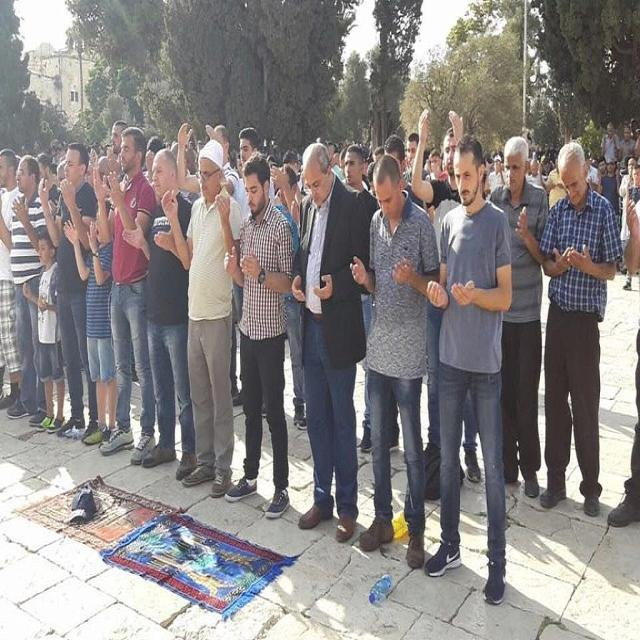body: (420, 130, 515, 609), (348, 151, 443, 576), (290, 138, 370, 545), (536, 138, 620, 517), (159, 136, 244, 498), (408, 104, 486, 491), (220, 149, 296, 521), (121, 147, 198, 482), (90, 123, 157, 467), (488, 135, 550, 500), (38, 142, 98, 445), (0, 153, 54, 428), (62, 197, 119, 447), (322, 130, 450, 220), (342, 143, 379, 454), (607, 195, 640, 528), (21, 226, 68, 434), (273, 162, 308, 427), (21, 120, 138, 193), (477, 144, 572, 215), (143, 121, 208, 206), (0, 149, 21, 411), (175, 121, 241, 202), (227, 124, 277, 220), (257, 151, 317, 227), (383, 389, 425, 469), (622, 161, 640, 292), (618, 157, 638, 257), (54, 330, 86, 383), (598, 155, 620, 225), (547, 161, 568, 214), (583, 153, 608, 195), (487, 153, 508, 202), (222, 145, 247, 182), (600, 120, 621, 163), (618, 124, 638, 161), (128, 334, 141, 386), (527, 157, 547, 190), (627, 115, 640, 155)
